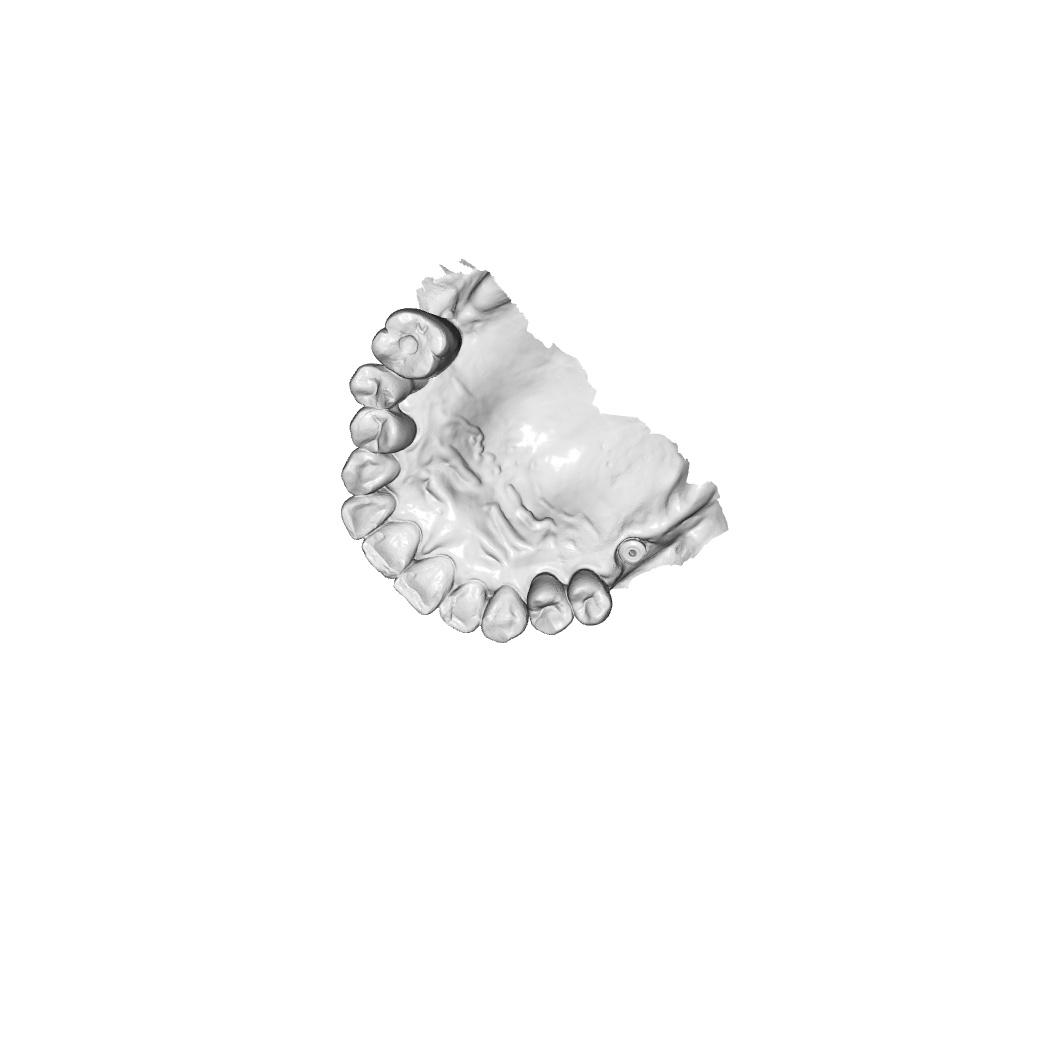canine: (341, 447, 402, 496), (480, 584, 529, 644)
implant: (617, 536, 648, 566)
incisor: (393, 554, 457, 617), (361, 520, 423, 580), (438, 578, 490, 635), (340, 492, 398, 541)
molar: (370, 306, 463, 379)
premolar: (348, 362, 430, 410), (348, 406, 418, 455), (526, 571, 574, 636), (567, 567, 613, 627)
